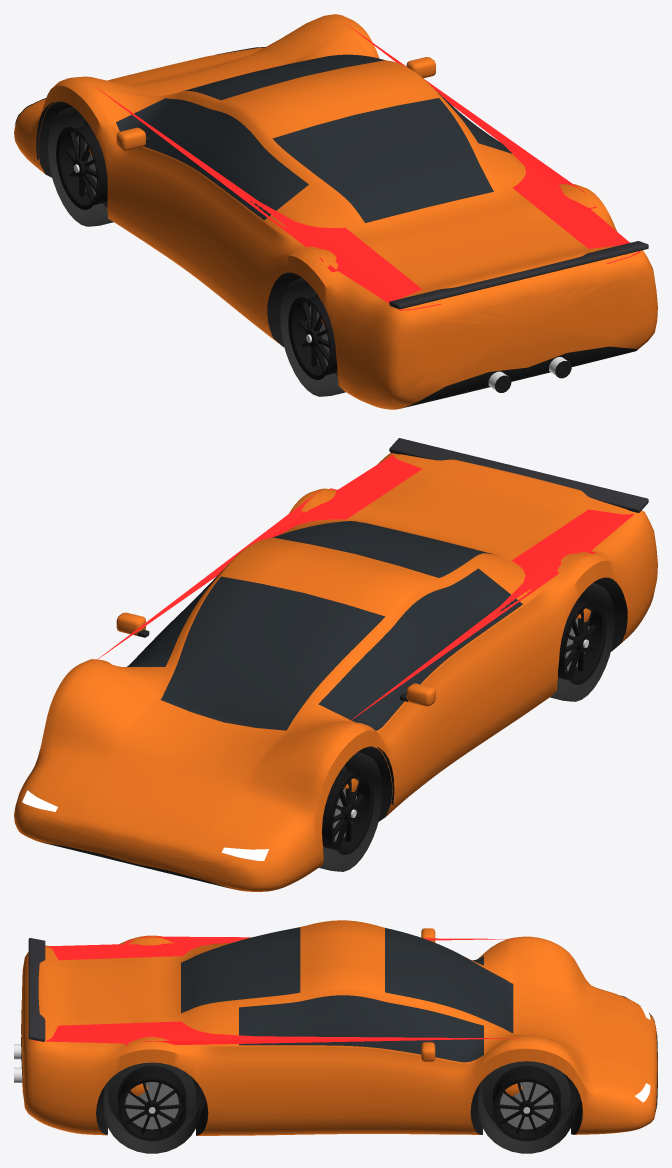
File: mclaren_720s.glb
The picture shows the model from 3 angles, top to bottom: view 1: azimuth 30°, elevation 25°; view 2: azimuth 150°, elevation 25°; view 3: azimuth 270°, elevation 25°; orthographic projection. The views are drawn at different scales.
Parts seen in each view (by area): view 1: Body, Wheel_FL, Wheel_RL; view 2: Body, Wheel_FL, Wheel_RL; view 3: Body, Wheel_FR, Wheel_RR.
Boxes of the visible parts, x1,y1,x2,y2 form: Body: (14, 14, 657, 409); Wheel_FL: (48, 107, 113, 226); Wheel_RL: (280, 278, 345, 396); Body: (14, 438, 657, 891); Wheel_FL: (319, 752, 382, 871); Wheel_RL: (550, 582, 614, 701); Body: (14, 920, 657, 1135); Wheel_FR: (477, 1061, 575, 1153); Wheel_RR: (103, 1062, 201, 1153).
Size of the model in its own units: 2.08 by 1.18 by 4.59.
